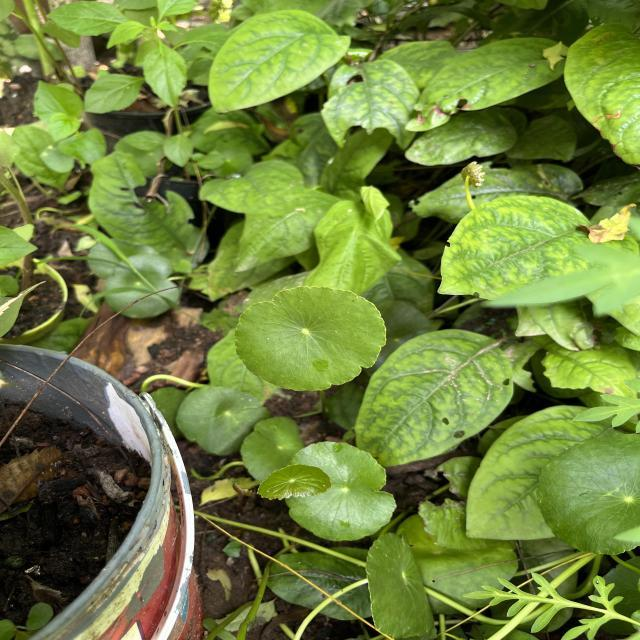Bacopa monnieri: (232, 285, 388, 394), (284, 439, 398, 542), (254, 462, 333, 502)
